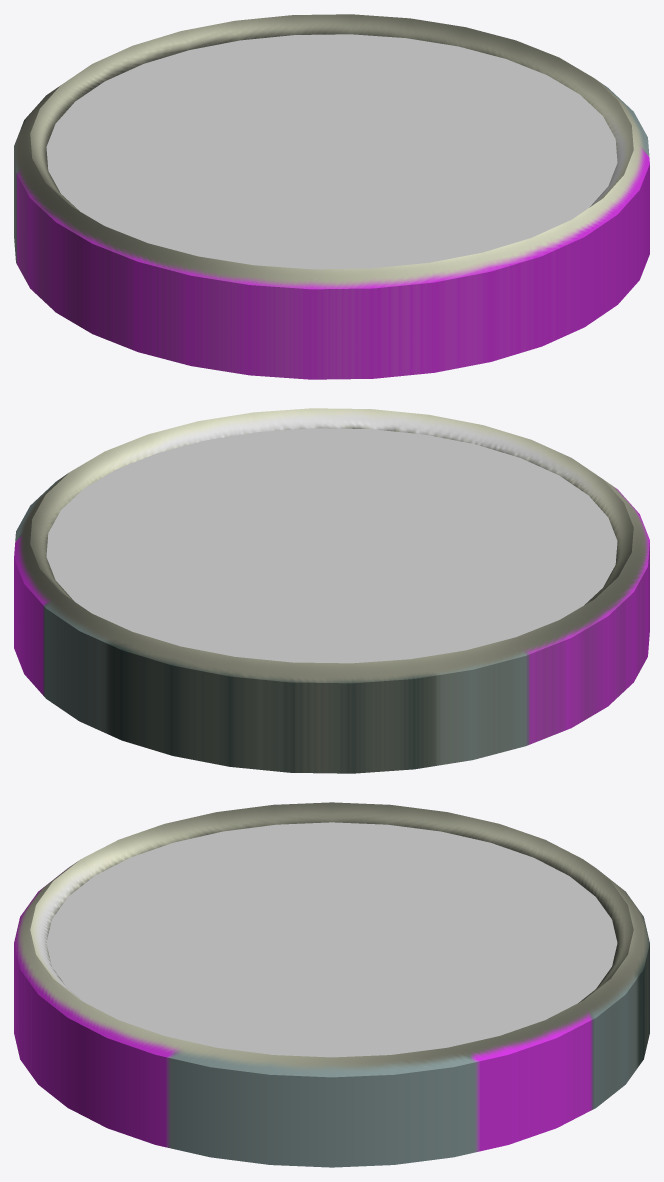
File: SkillLeft.fbx
The picture shows the model from 3 angles, top to bottom: view 1: azimuth 30°, elevation 25°; view 2: azimuth 150°, elevation 25°; view 3: azimuth 270°, elevation 25°; orthographic projection.
Parts seen in each view (by area): view 1: SkillLeft; view 2: SkillLeft; view 3: SkillLeft.
Boxes of the visible parts, x1,y1,x2,y2 form: SkillLeft: (14,14,649,379); SkillLeft: (14,408,649,773); SkillLeft: (14,802,649,1167).
Size of the model in its own units: 13.14 by 2.35 by 13.14.
